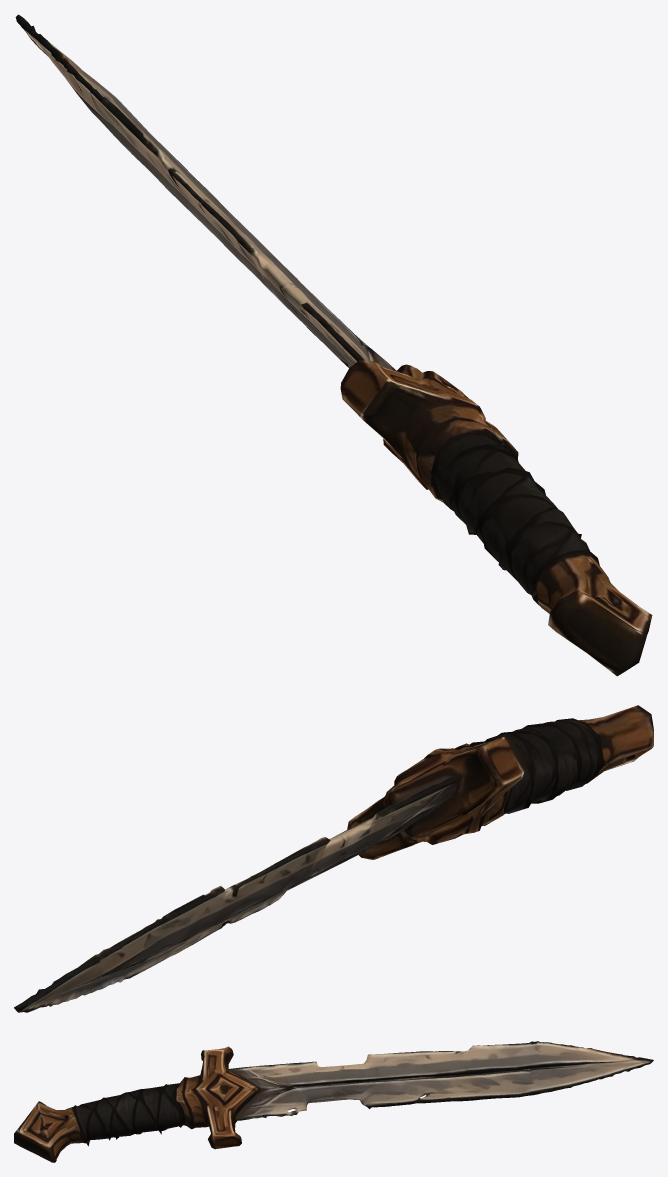
The model's file is adagas_1.glb.
The picture shows the model from 3 angles, top to bottom: view 1: azimuth 30°, elevation 25°; view 2: azimuth 150°, elevation 25°; view 3: azimuth 270°, elevation 25°; orthographic projection. The views are drawn at different scales.
Visible parts, largest first — view 1: peca_adaga; view 2: peca_adaga; view 3: peca_adaga.
Boxes of the visible parts, x1,y1,x2,y2 form: peca_adaga: (15,14,652,676); peca_adaga: (14,705,653,1012); peca_adaga: (14,1041,653,1162).
Size of the model in its own units: 0.0729 by 0.095 by 0.5.
1 material, 1 textured.
